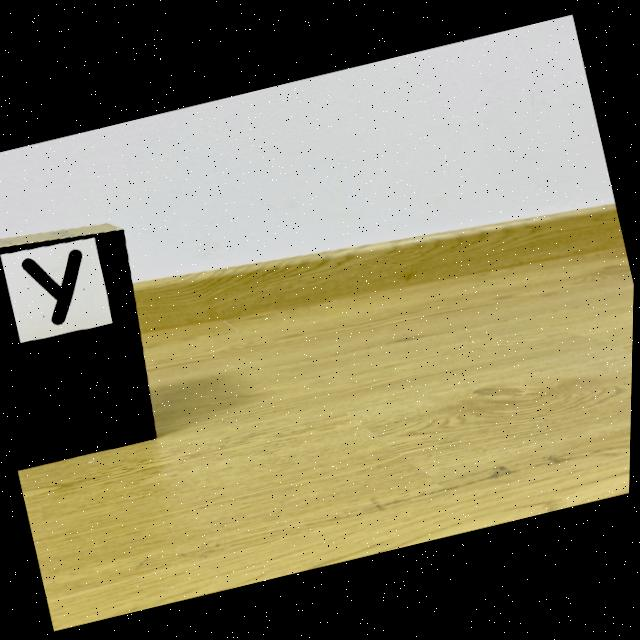Y: (23, 249, 83, 324)
